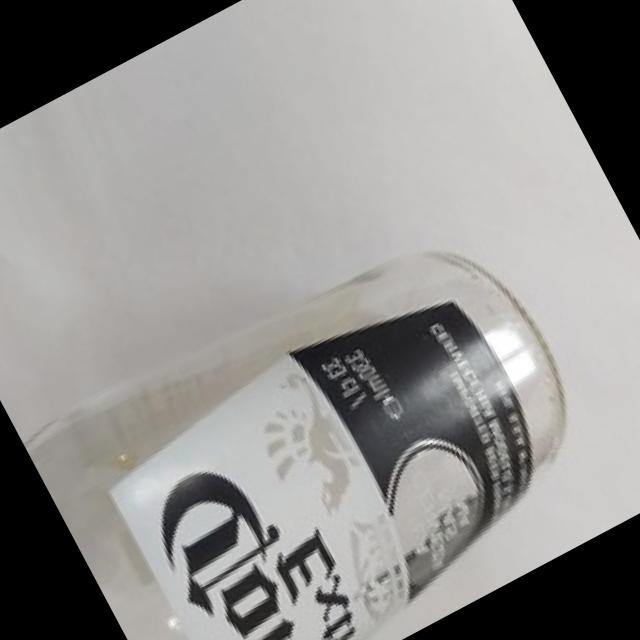BotolKaca: (19, 191, 640, 640)
